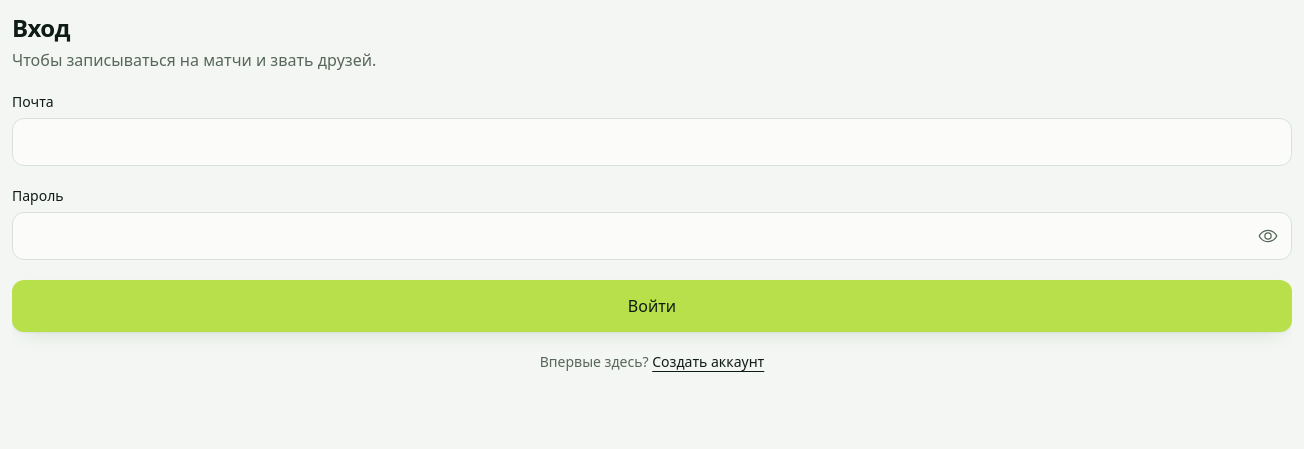
LoginPage › shows a readable error for wrong credentials
The image size is (1304, 449).
Type "andrey@example.com" into the field labelled "Почта". click: (652, 142)
box: [12, 118, 1292, 166]
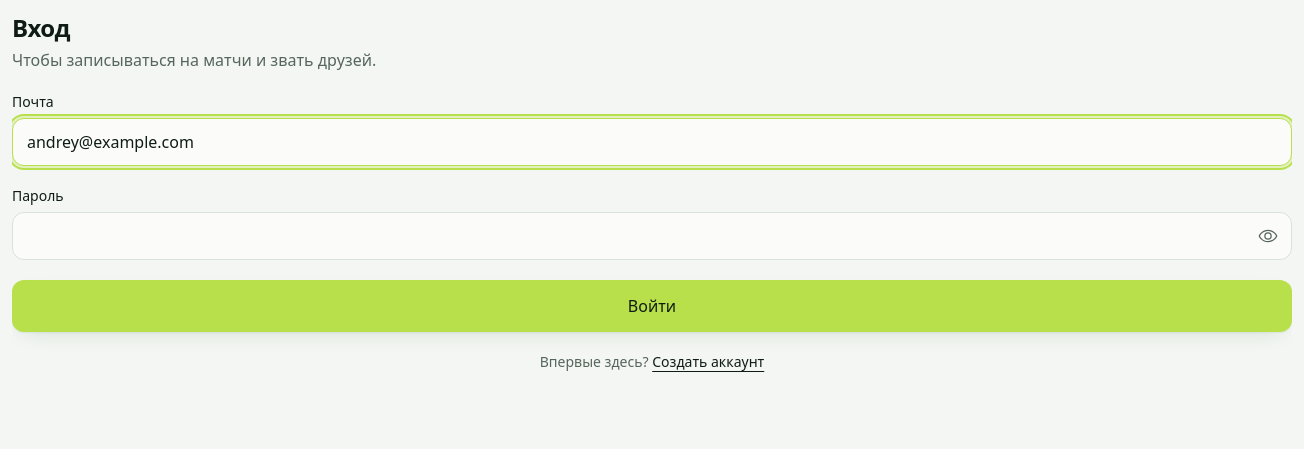
Type "wrong-password" into the password field labelled "Пароль". click: (652, 236)
box: [12, 212, 1292, 260]
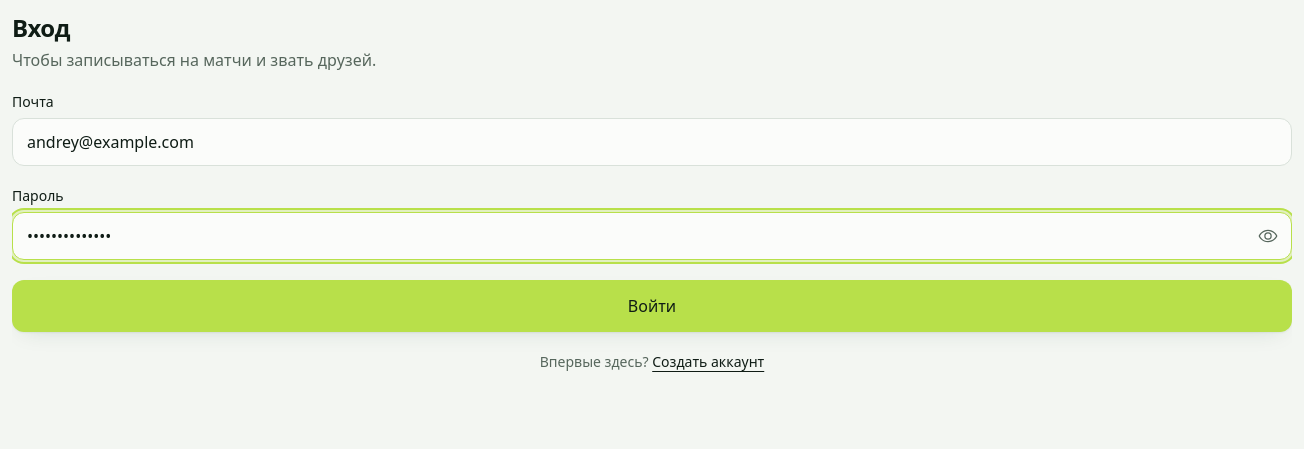
Click the button "Войти". click: (652, 306)
box: [12, 280, 1292, 332]
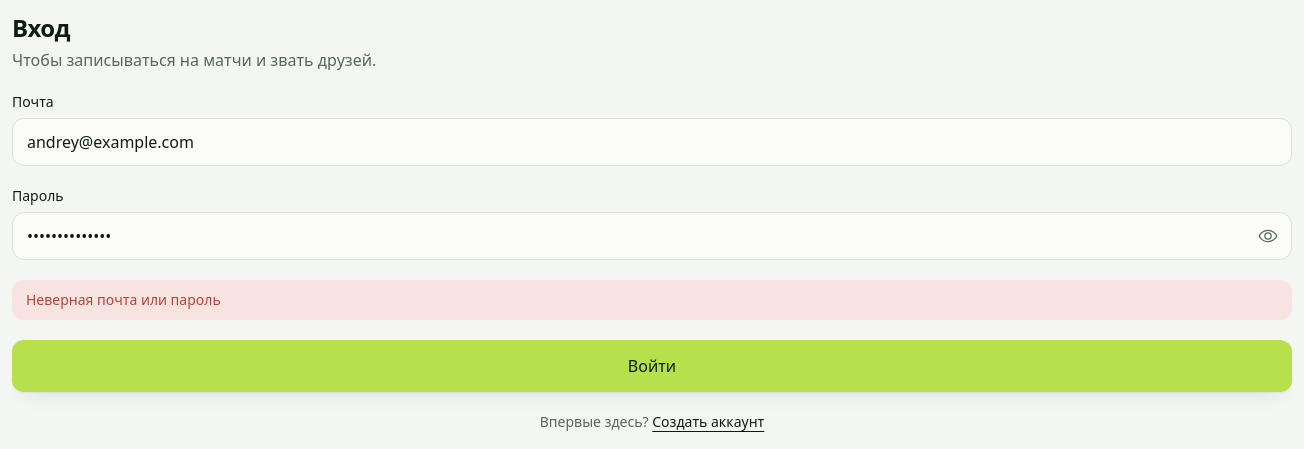
Now the message reads "Неверная почта или пароль", box [26, 290, 221, 309]
